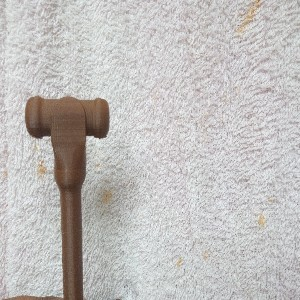palu: (24, 96, 110, 300)
